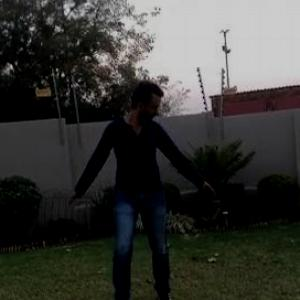land: (53, 78, 211, 299)
